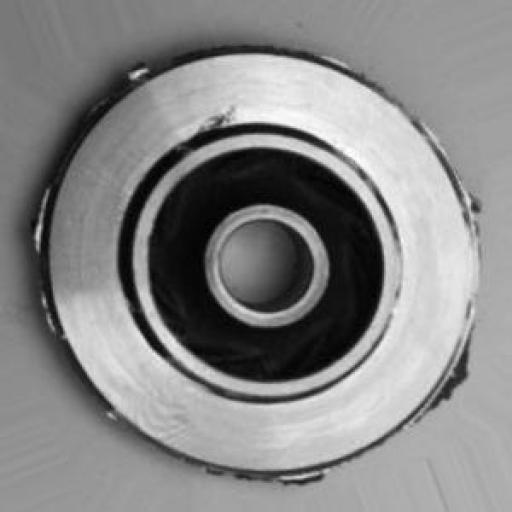defect: (22, 19, 502, 495)
